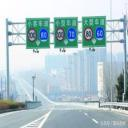speed_limit_100: (27, 27, 38, 43), (55, 27, 66, 42)
speed_limit_80: (83, 26, 94, 41)
